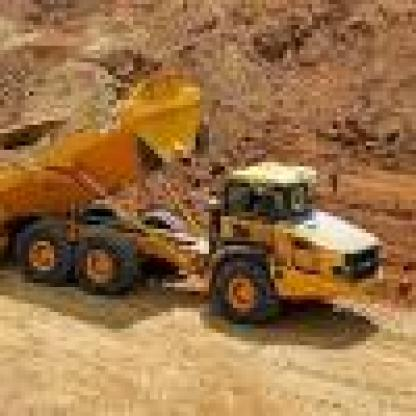dump_truck: (4, 58, 391, 346)
